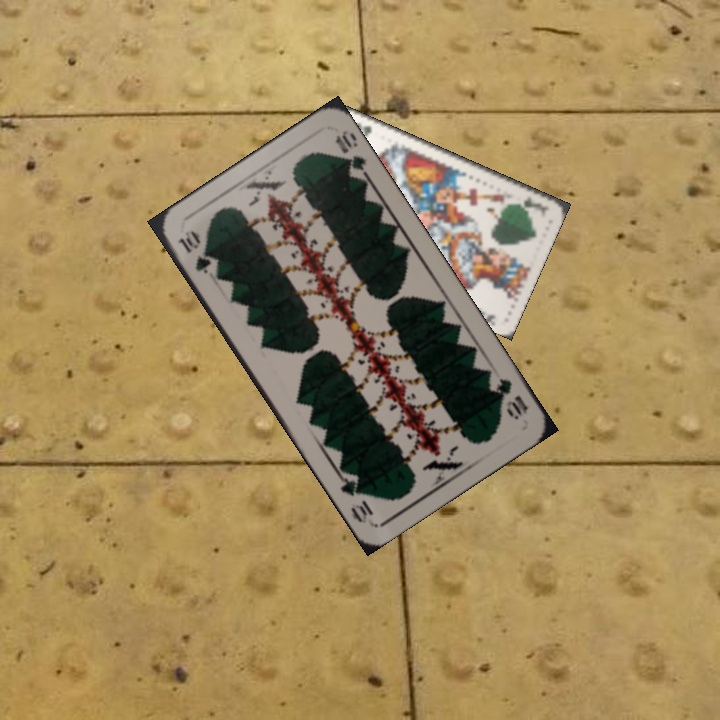G10: (173, 225, 214, 277), (489, 374, 531, 423)
GK: (512, 192, 548, 211)
